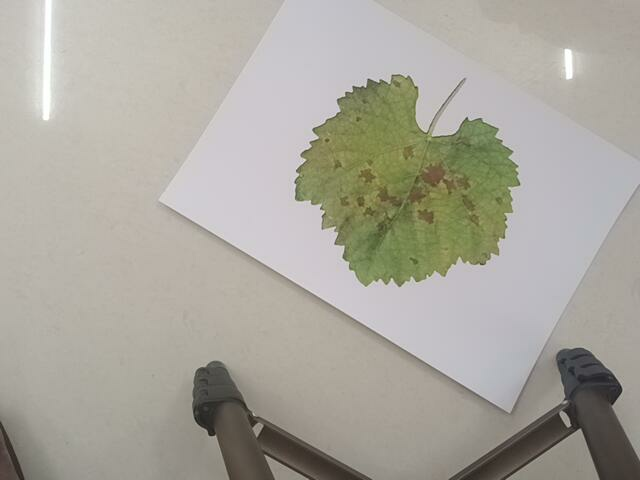Grape_Leaf_Vine_Disease: (289, 72, 528, 283)
